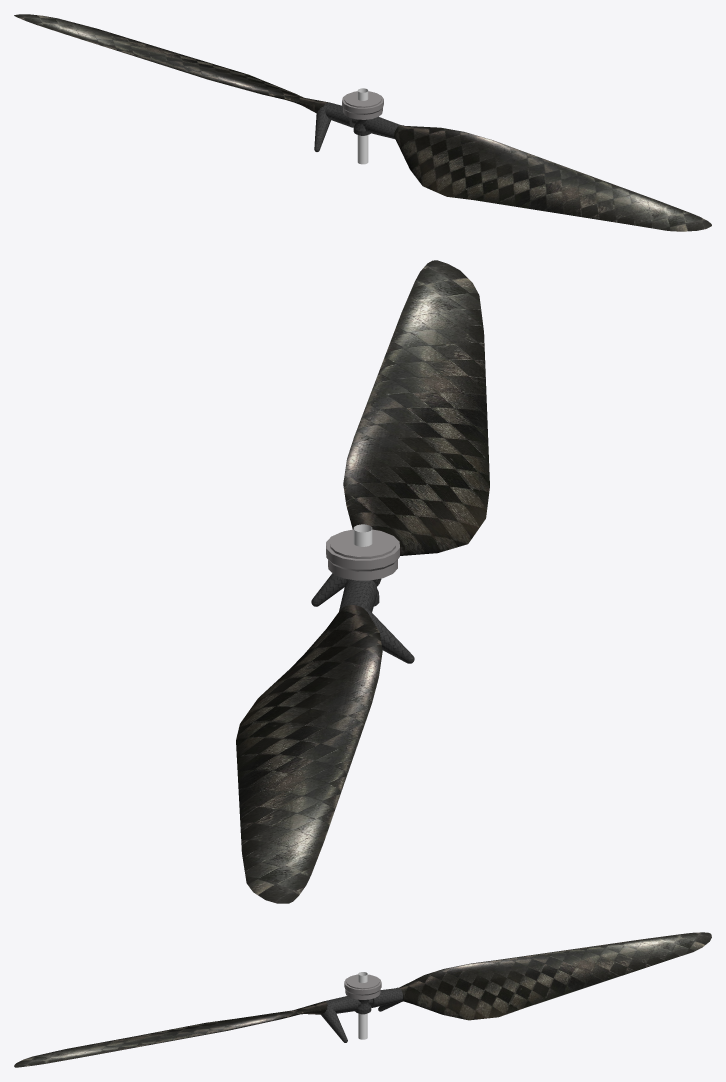
The model's file is rotors_01.glb.
3 views of the same model, one above another, from view 1: azimuth 30°, elevation 25°; view 2: azimuth 150°, elevation 25°; view 3: azimuth 270°, elevation 25° (orthographic). The views are drawn at different scales.
Visible parts, largest first — view 1: rotors_01; view 2: rotors_01; view 3: rotors_01.
Part boxes in pixels (box(x1,y1,x2,y2)): rotors_01: box(14, 14, 711, 231); rotors_01: box(236, 260, 489, 903); rotors_01: box(14, 932, 711, 1067).
Size of the model in its own units: 0.5055 by 0.1117 by 1.11.
4 materials, 2 textured.
